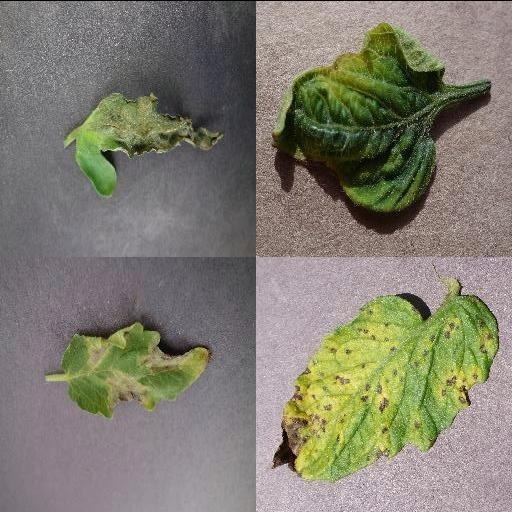Late Blight: (75, 89, 225, 197), (61, 319, 213, 417)
Septoria: (272, 292, 498, 478)
Yellow Leaf Curl Virus: (272, 21, 446, 211)
